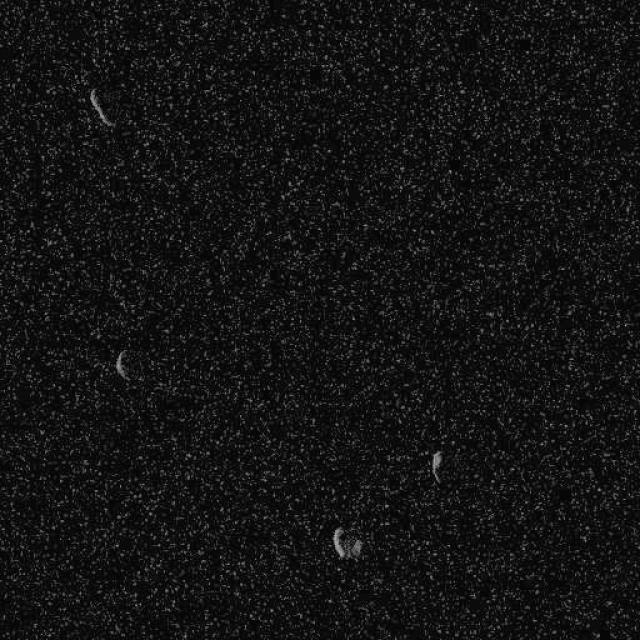D2: (87, 86, 115, 129), (331, 525, 364, 561), (428, 448, 444, 484), (114, 349, 130, 380)
